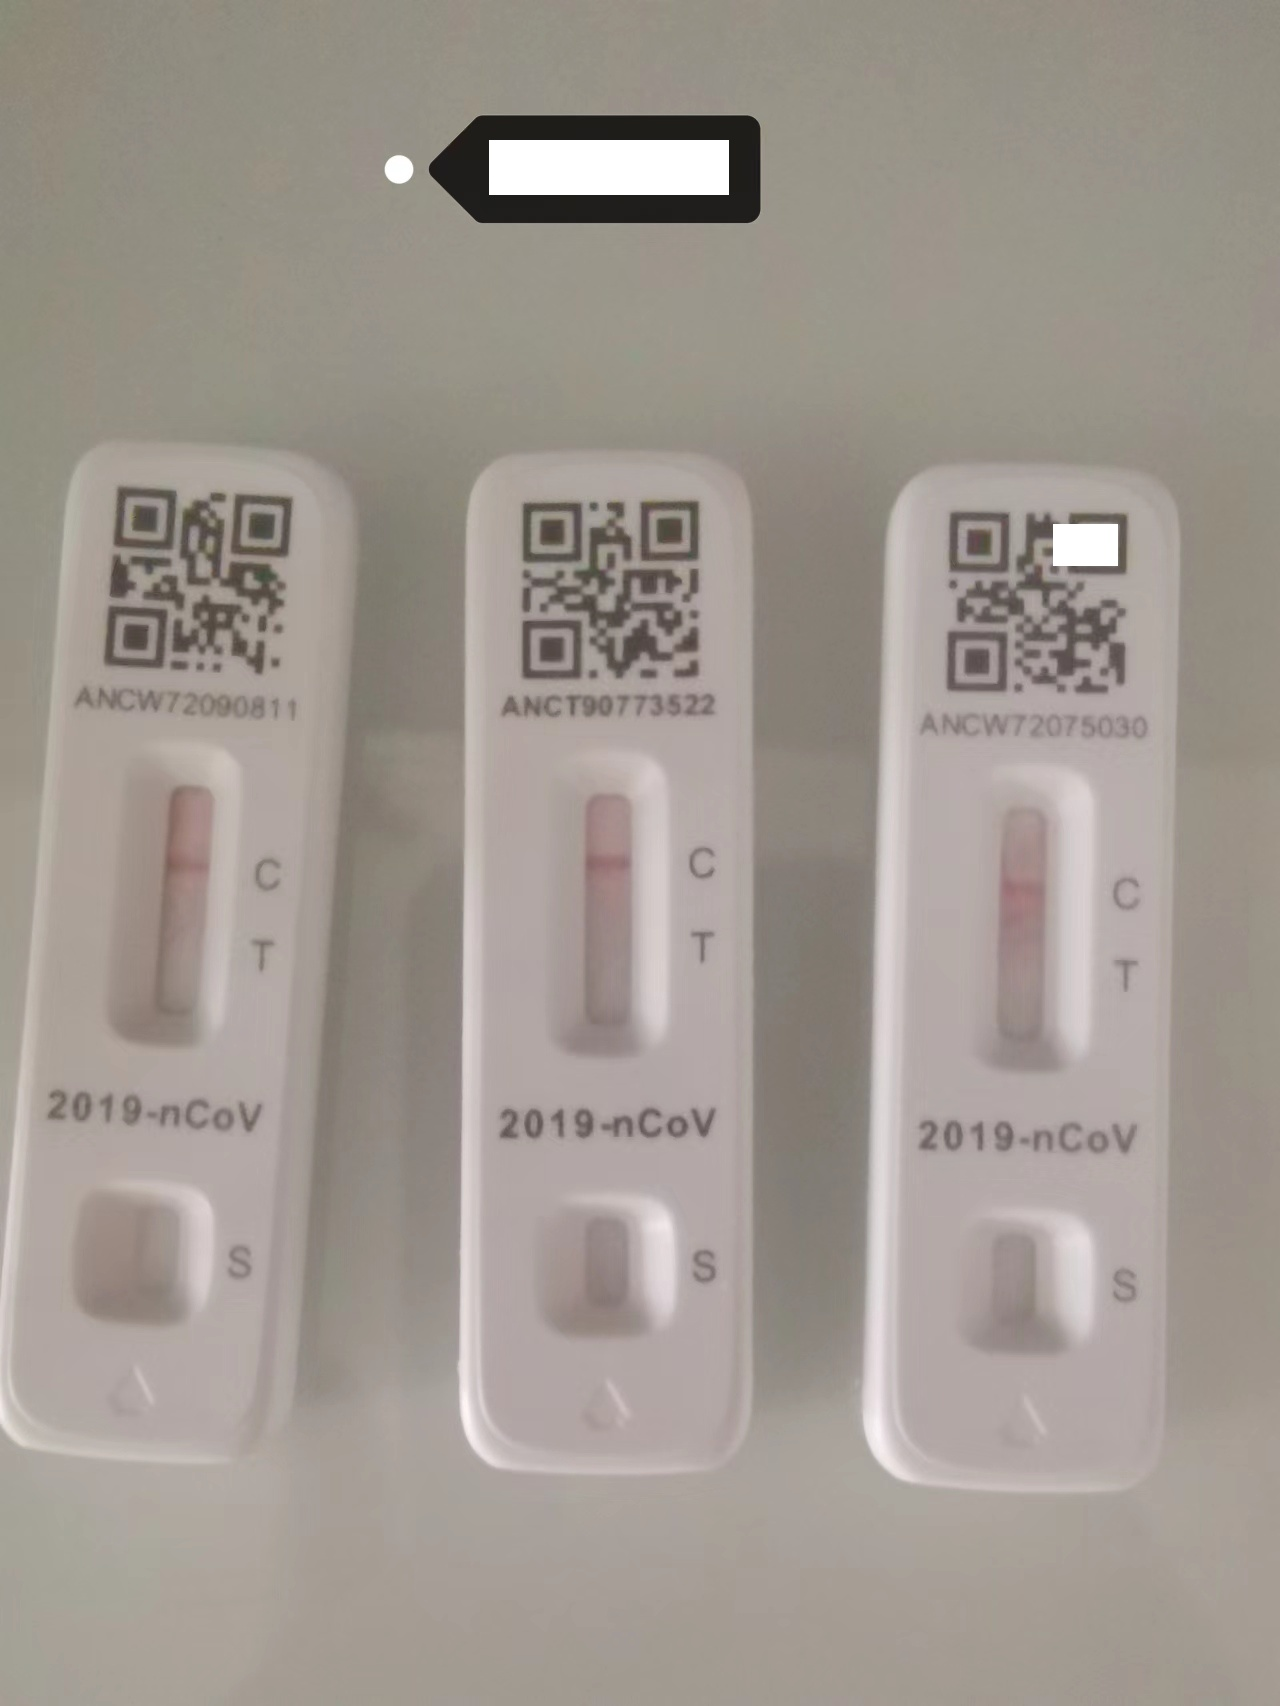negative: (106, 752, 237, 1057), (550, 745, 667, 1063), (973, 768, 1086, 1081)
